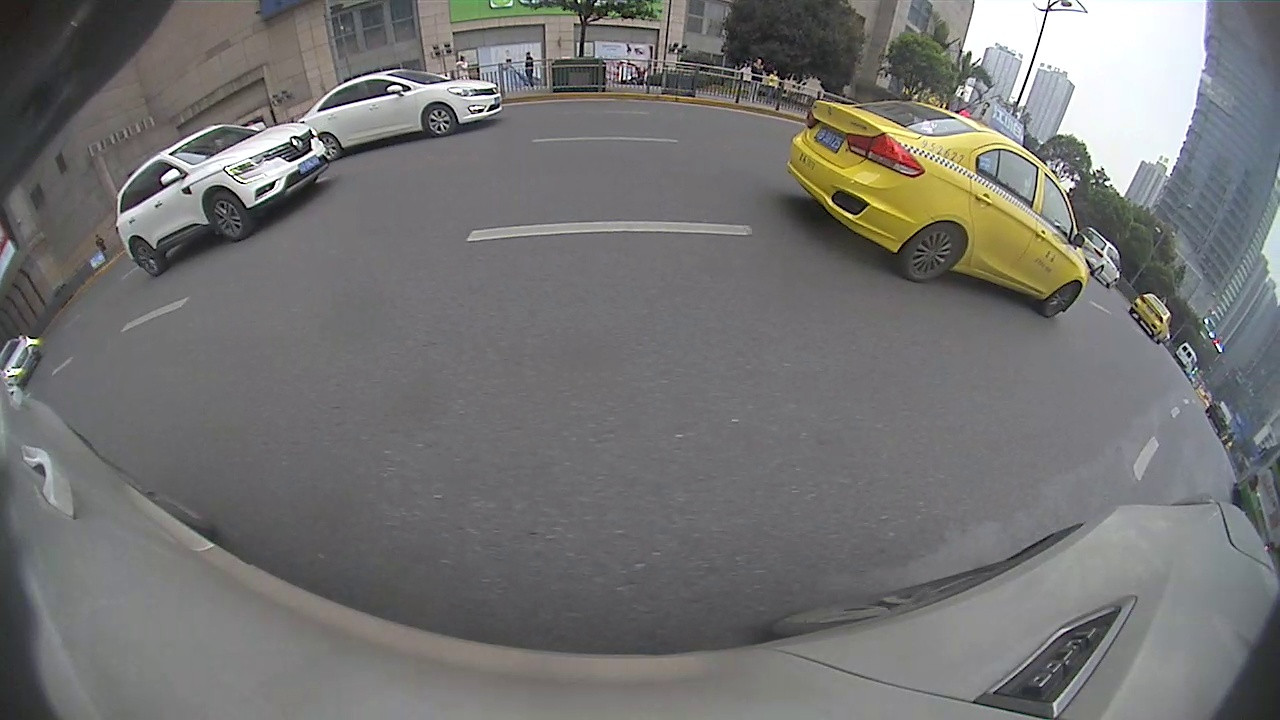car: (787, 95, 1092, 320), (113, 121, 333, 277), (293, 65, 503, 165), (1078, 223, 1125, 292), (1128, 291, 1176, 346)
front: (202, 189, 251, 241), (1039, 281, 1087, 319), (420, 100, 455, 137)
rear: (904, 221, 966, 284), (124, 234, 163, 280), (318, 132, 343, 161)
